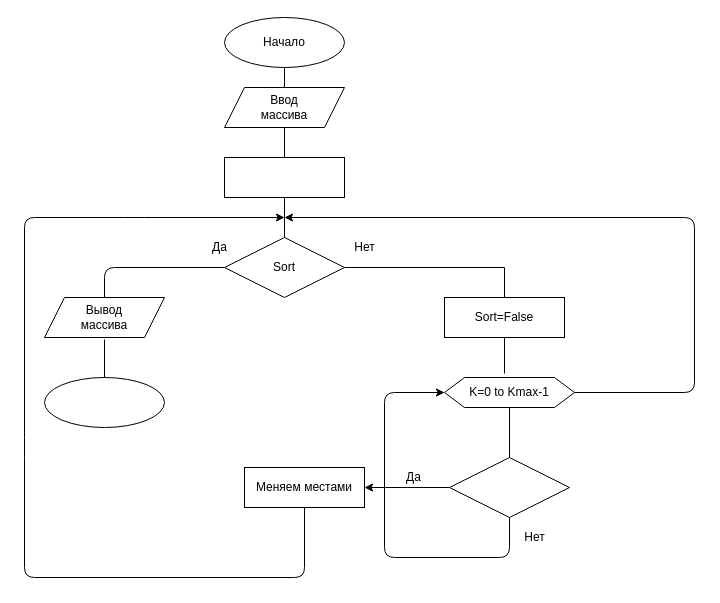
Some shapes in this 720 by 603 pixel diagram are drawn without their labels. Each missing label, with the centre of its shape:
"K>(K+1)" goes at point (509, 487).
"Sort=True" goes at point (284, 177).
"Конец" goes at point (104, 402).
